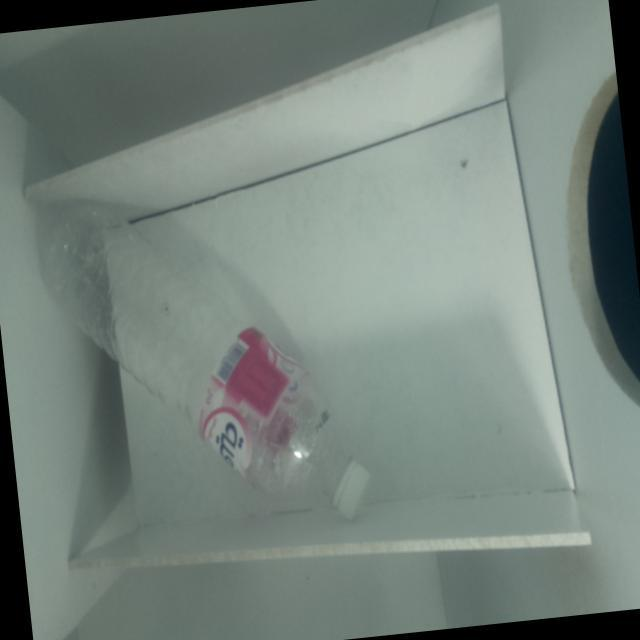good: (12, 146, 394, 570)
